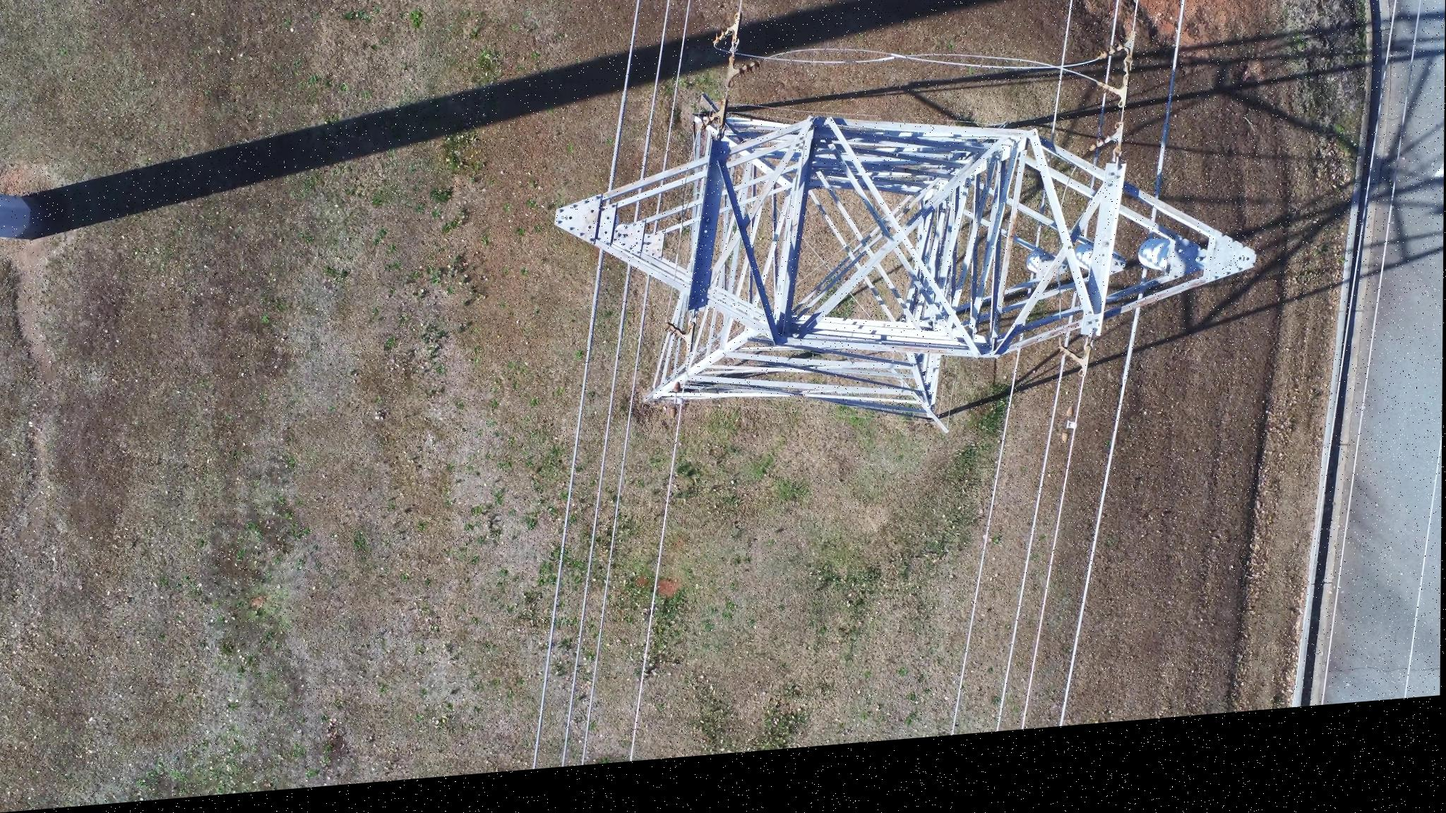tower: (548, 57, 1255, 465)
